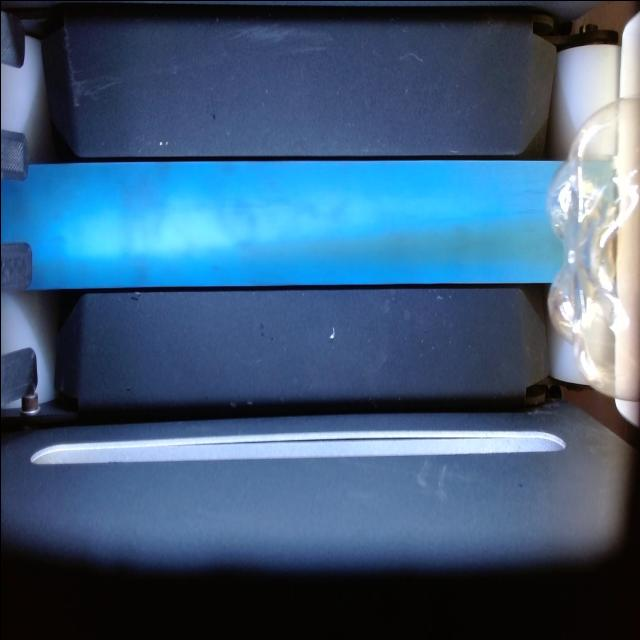bottle: (547, 96, 640, 400)
